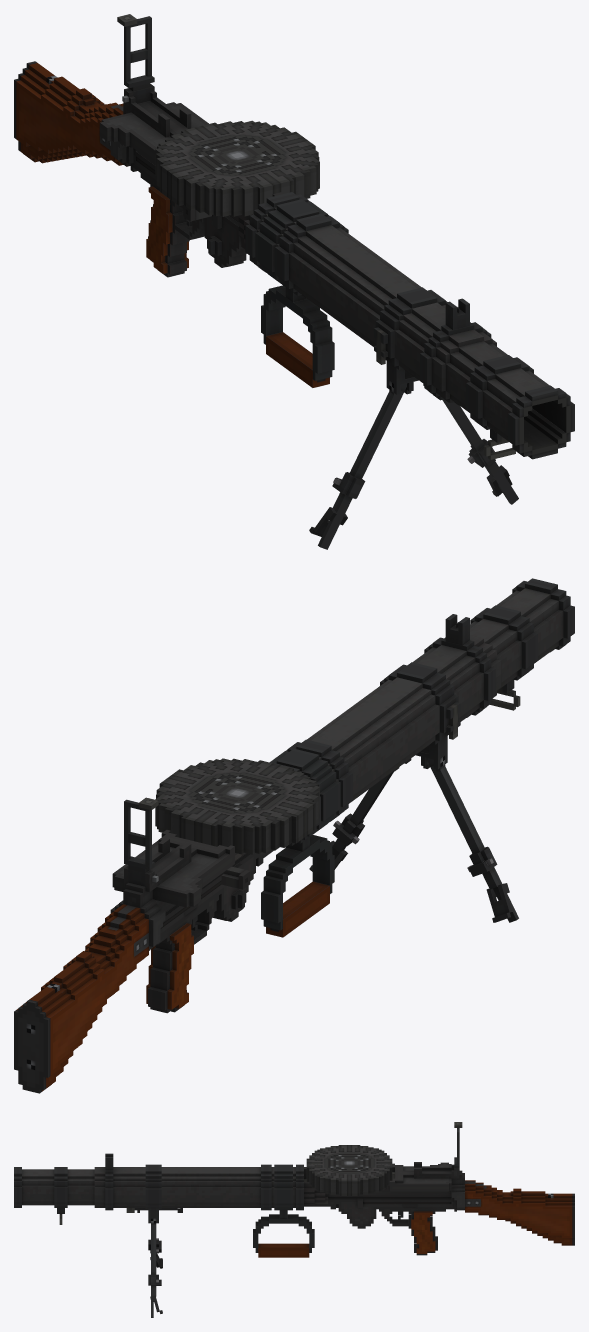
The model's file is RD_LEWIS.glb.
The picture shows the model from 3 angles, top to bottom: view 1: azimuth 30°, elevation 25°; view 2: azimuth 150°, elevation 25°; view 3: azimuth 270°, elevation 25°; orthographic projection. The views are drawn at different scales.
Visible parts, largest first — view 1: LEWIS, LEWIS_CLIP, LEWIS_GRIP, LEWIS_DIPOD_LEG1, LEWIS_DIPOD, LEWIS_DIPOD_LEG2; view 2: LEWIS, LEWIS_CLIP, LEWIS_GRIP, LEWIS_DIPOD_LEG1, LEWIS_DIPOD, LEWIS_DIPOD_LEG2; view 3: LEWIS, LEWIS_CLIP, LEWIS_GRIP, LEWIS_DIPOD, LEWIS_DIPOD_LEG2.
Part boxes in pixels (box(x1,y1,x2,y2)): LEWIS: box(14, 14, 574, 459); LEWIS_CLIP: box(155, 120, 319, 216); LEWIS_GRIP: box(255, 199, 334, 387); LEWIS_DIPOD_LEG1: box(309, 383, 406, 549); LEWIS_DIPOD: box(374, 287, 447, 394); LEWIS_DIPOD_LEG2: box(442, 399, 518, 504); LEWIS: box(14, 578, 574, 1093); LEWIS_CLIP: box(155, 758, 319, 854); LEWIS_GRIP: box(261, 748, 340, 937); LEWIS_DIPOD_LEG1: box(427, 758, 518, 922); LEWIS_DIPOD: box(380, 662, 460, 771); LEWIS_DIPOD_LEG2: box(309, 771, 393, 871); LEWIS: box(14, 1122, 574, 1255); LEWIS_CLIP: box(306, 1145, 392, 1195); LEWIS_GRIP: box(253, 1164, 314, 1257); LEWIS_DIPOD: box(145, 1164, 161, 1224); LEWIS_DIPOD_LEG2: box(148, 1224, 162, 1317).
Size of the model in its own units: 0.4626 by 0.6746 by 2.06.
2 materials, 2 textured.
